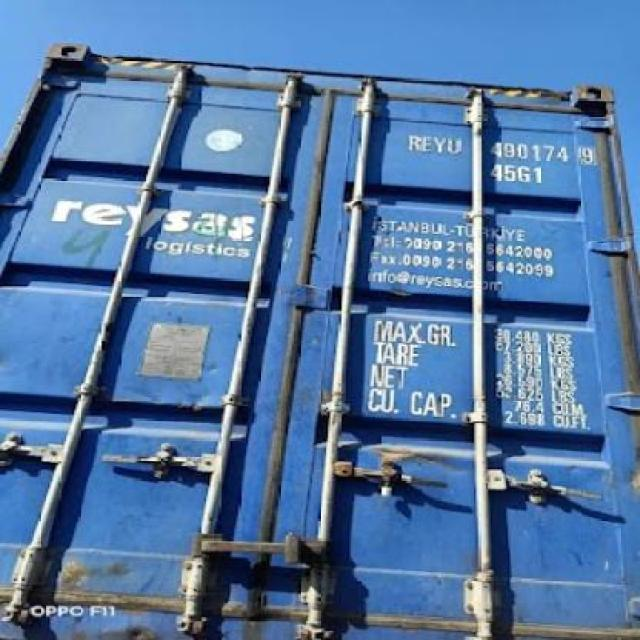ISO: (492, 163, 543, 184)
container_number: (402, 125, 600, 166), (492, 140, 588, 163)
